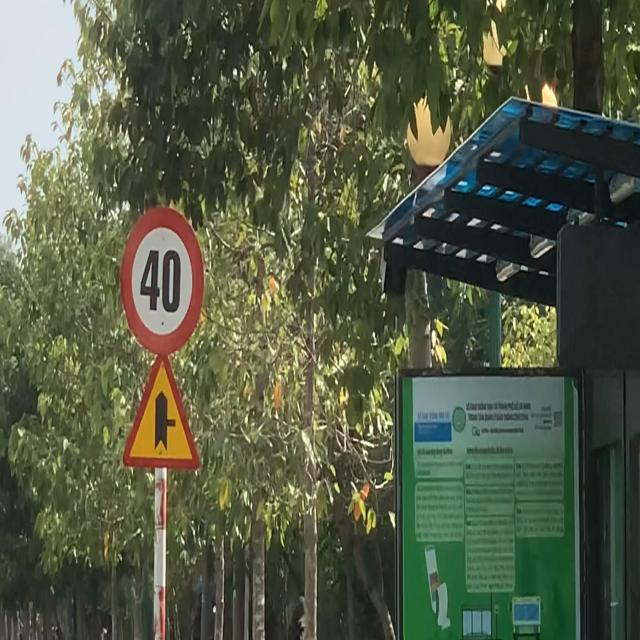Giao voi duong khong uu tien: (120, 351, 204, 476)
Toc do toi da: (122, 205, 207, 354)
